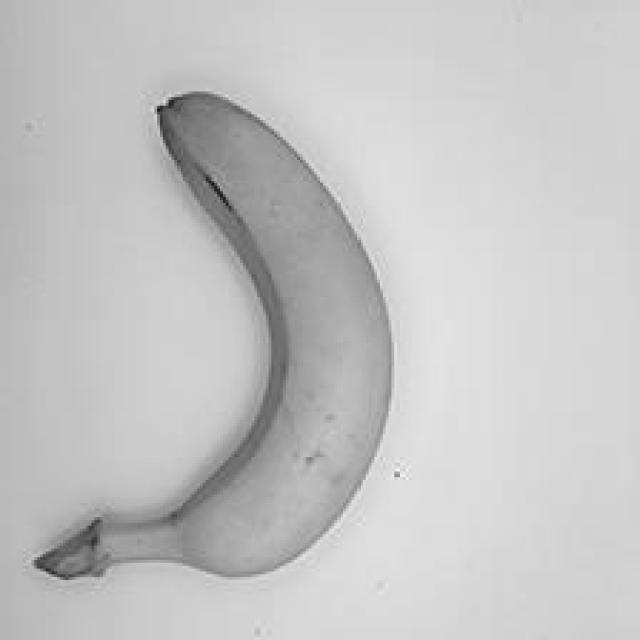Unripe: (34, 83, 417, 593)
